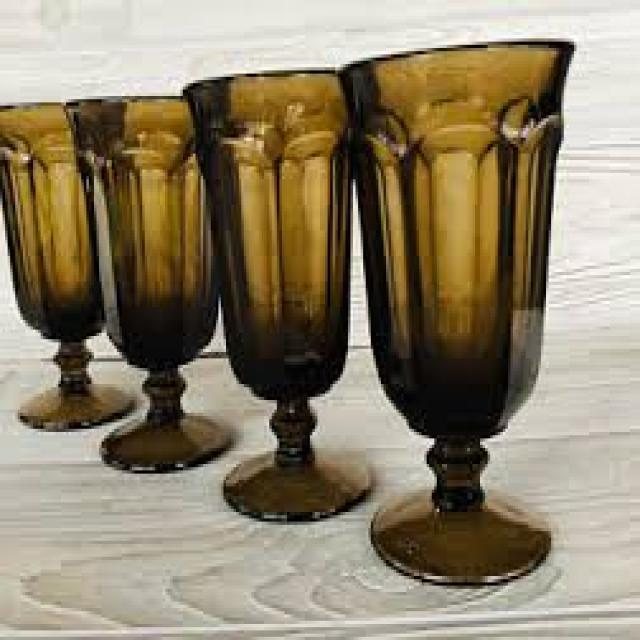glass: (338, 36, 574, 583), (181, 67, 374, 522), (61, 93, 236, 470), (0, 99, 135, 426)
